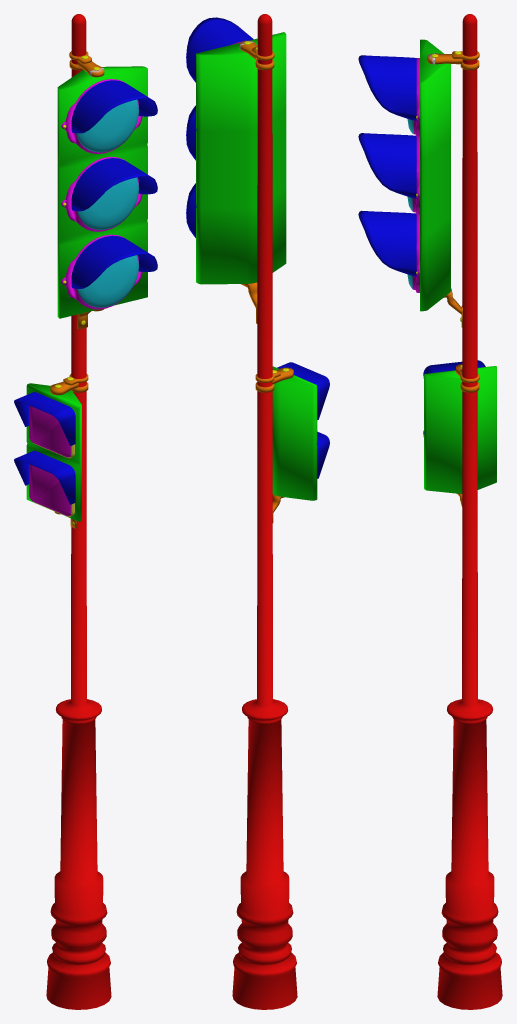
The model's file is SEMAFORO .fbx.
3 renders of one model, left to right at view 1: azimuth 30°, elevation 25°; view 2: azimuth 210°, elevation 25°; view 3: azimuth 270°, elevation 25°, orthographic.
Parts seen in each view (by area): view 1: SEMAFORO; view 2: SEMAFORO; view 3: SEMAFORO.
Boxes of the visible parts, box(x1,y1,x2,y2) form: SEMAFORO: box(14, 14, 157, 1009); SEMAFORO: box(186, 14, 329, 1009); SEMAFORO: box(358, 14, 502, 1009).
Bounding box in the file's own units: 23.48 × 215 × 28.63.
